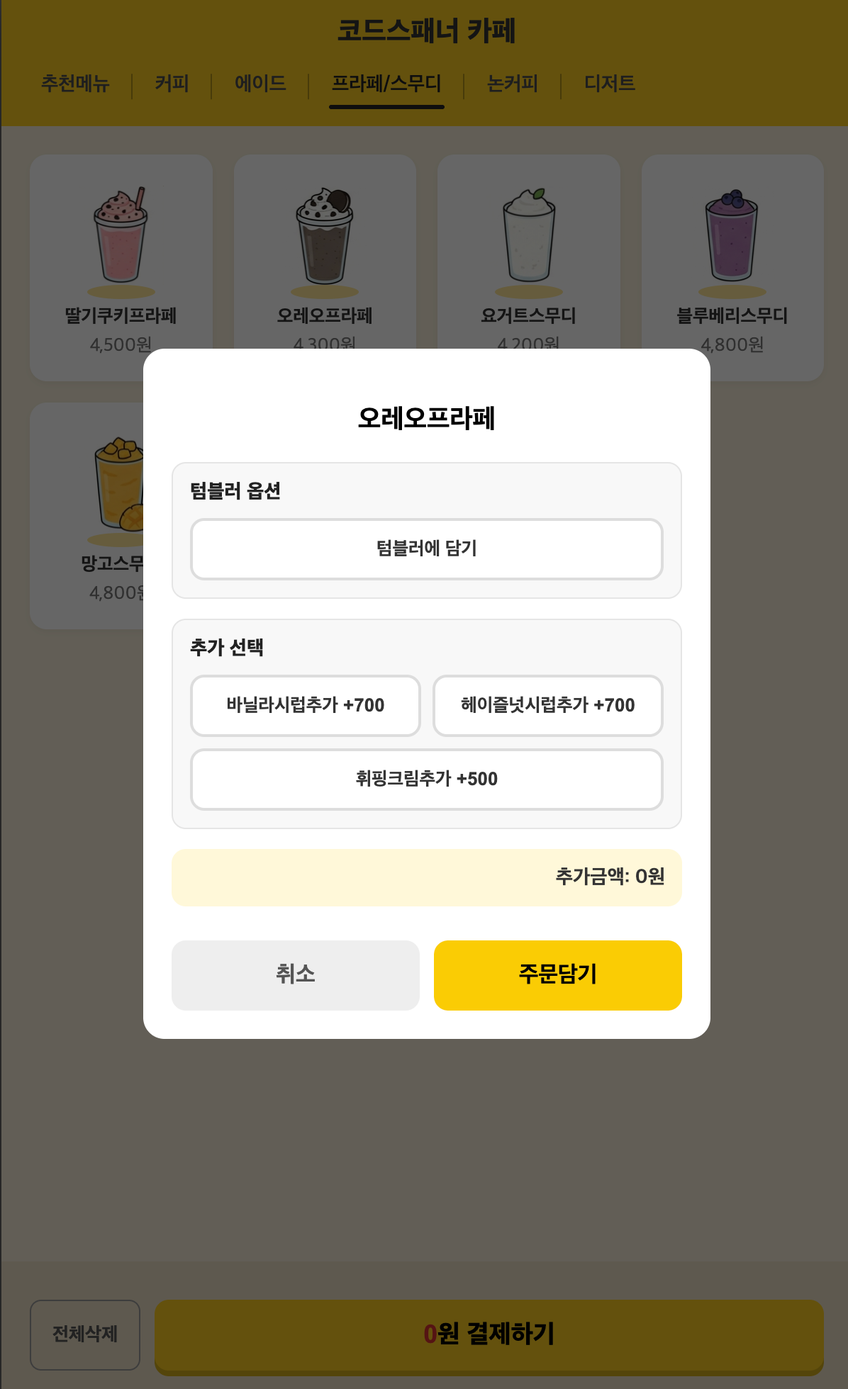action_button: (189, 517, 663, 580), (189, 749, 662, 812), (432, 940, 681, 1011), (168, 940, 417, 1011), (190, 676, 421, 740), (431, 675, 663, 738)
popup_modal: (142, 348, 711, 1041)
